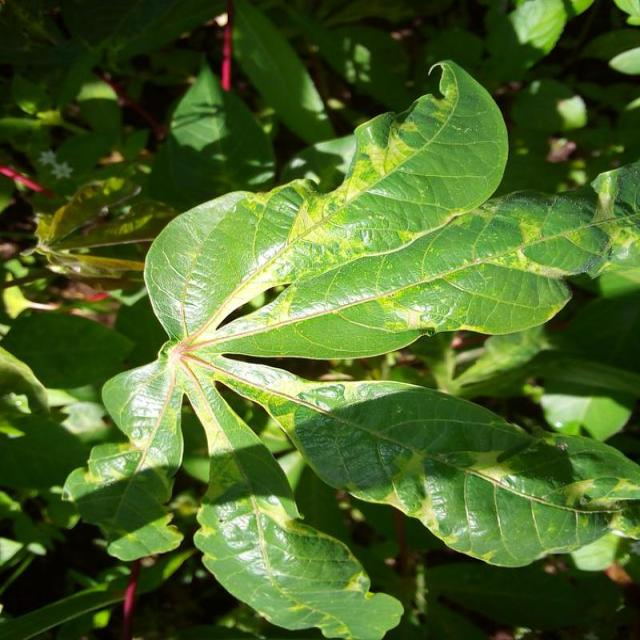cassava leaf: (73, 56, 639, 634), (290, 378, 640, 570)
